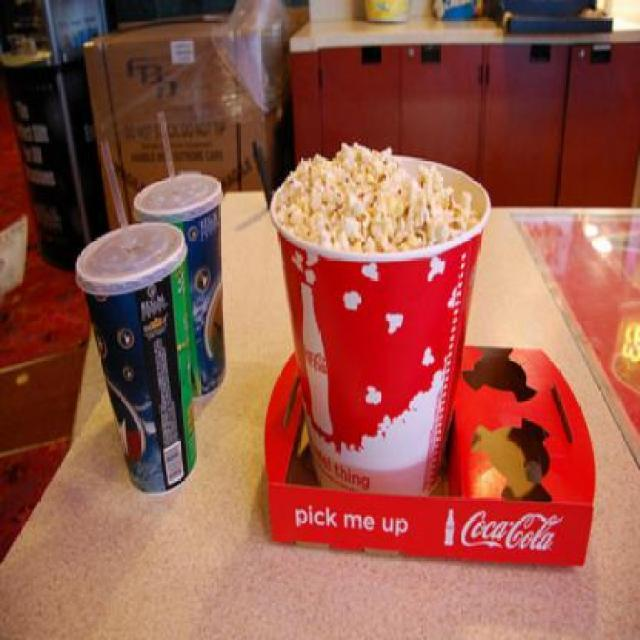Popcorn: (276, 140, 476, 254)
